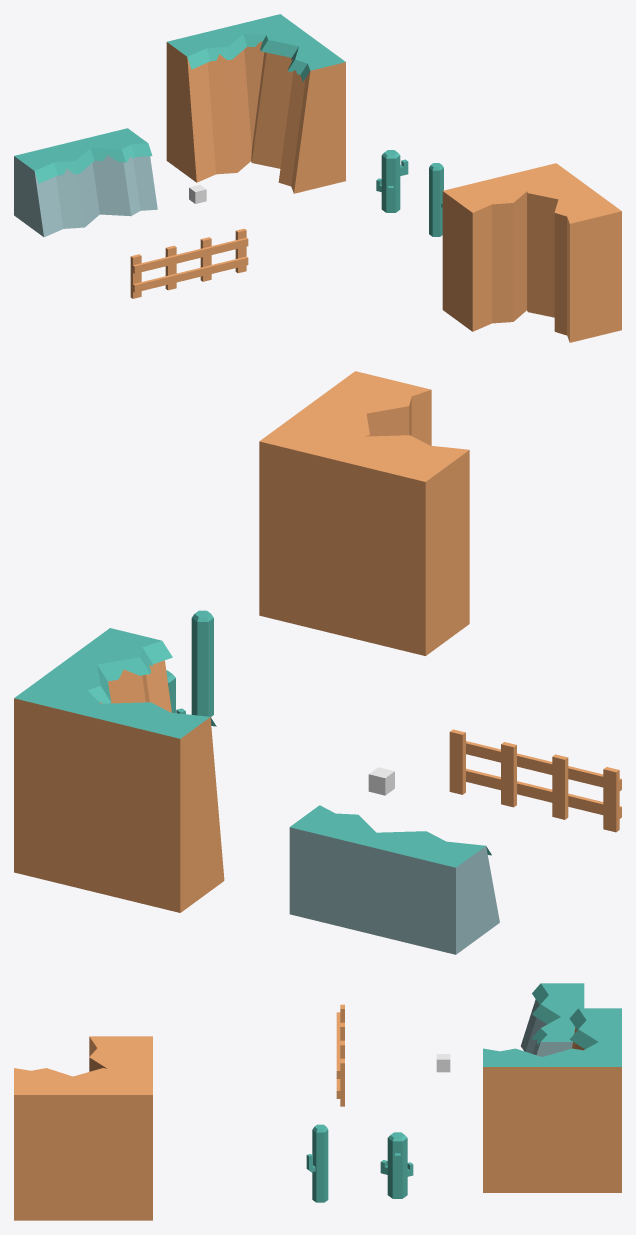
3 views of the same model, one above another, from view 1: azimuth 30°, elevation 25°; view 2: azimuth 150°, elevation 25°; view 3: azimuth 270°, elevation 25° (orthographic). The views are drawn at different scales.
Visible parts, largest first — view 1: cliffBrown_cornerInnerMid1, cliffBrown_cornerInnerTop1, cliffGrey_half1, fence_double1, cactus_short1, cactus_large1; view 2: cliffBrown_cornerInnerMid1, cliffBrown_cornerInnerTop1, cliffGrey_half1, fence_double1, cactus_large1; view 3: cliffBrown_cornerInnerMid1, cliffBrown_cornerInnerTop1, cliffGrey_half1, cactus_short1, cactus_large1, fence_double1.
Boxes of the visible parts, x1,y1,x2,y2 form: cliffBrown_cornerInnerMid1: (442, 163, 621, 342); cliffBrown_cornerInnerTop1: (166, 14, 345, 193); cliffGrey_half1: (14, 128, 157, 237); fence_double1: (130, 228, 248, 298); cactus_short1: (376, 150, 408, 212); cactus_large1: (429, 163, 443, 236); cliffBrown_cornerInnerMid1: (259, 371, 469, 655); cliffBrown_cornerInnerTop1: (14, 628, 224, 912); cliffGrey_half1: (289, 805, 499, 954); fence_double1: (449, 729, 621, 832); cactus_large1: (191, 610, 213, 716); cliffBrown_cornerInnerMid1: (14, 1036, 152, 1220); cliffBrown_cornerInnerTop1: (483, 1008, 621, 1192); cliffGrey_half1: (521, 983, 584, 1056); cactus_short1: (380, 1132, 413, 1198); cactus_large1: (306, 1124, 328, 1202); fence_double1: (336, 1004, 344, 1106).
Size of the model in its own units: 29.75 by 10 by 43.77.
